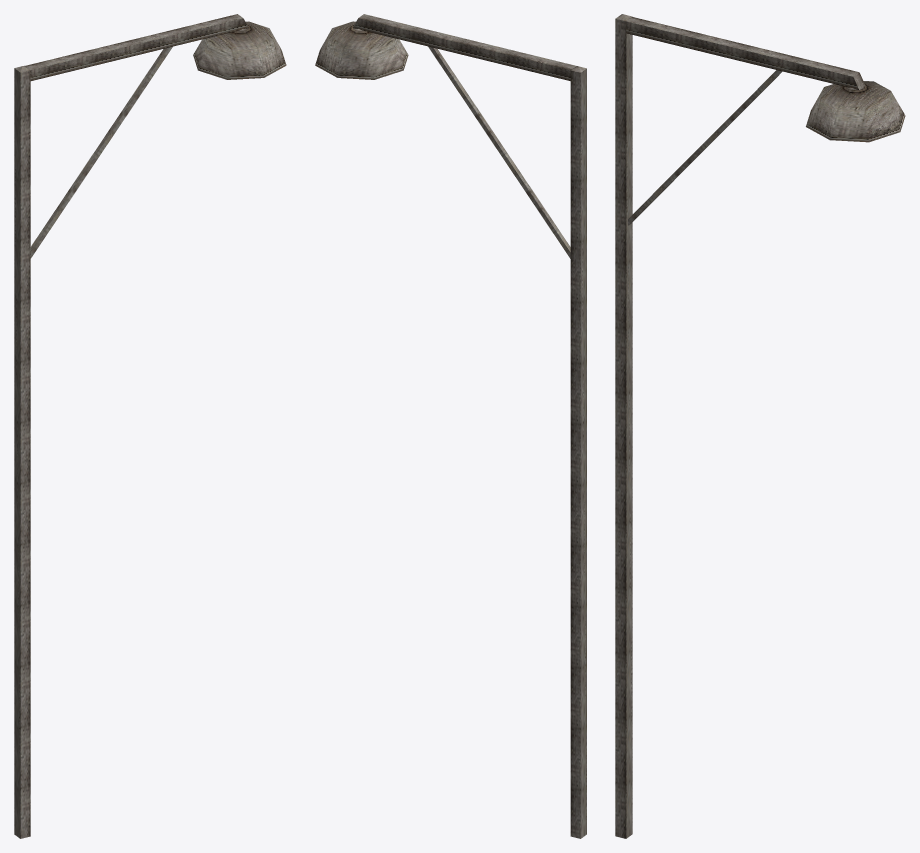
The model's file is Lpost01.glb.
The picture shows the model from 3 angles, left to right: view 1: azimuth 30°, elevation 25°; view 2: azimuth 150°, elevation 25°; view 3: azimuth 330°, elevation 25°; orthographic projection. The views are drawn at different scales.
Visible parts, largest first — view 1: _Lpost01; view 2: _Lpost01; view 3: _Lpost01.
Part boxes in pixels (x1,y1,x2,y2): _Lpost01: (14, 14, 286, 838); _Lpost01: (315, 14, 586, 838); _Lpost01: (615, 14, 905, 838).
Size of the model in its own units: 2.31 by 6.43 by 0.733.
Materials: 2 (2 with a texture image).
